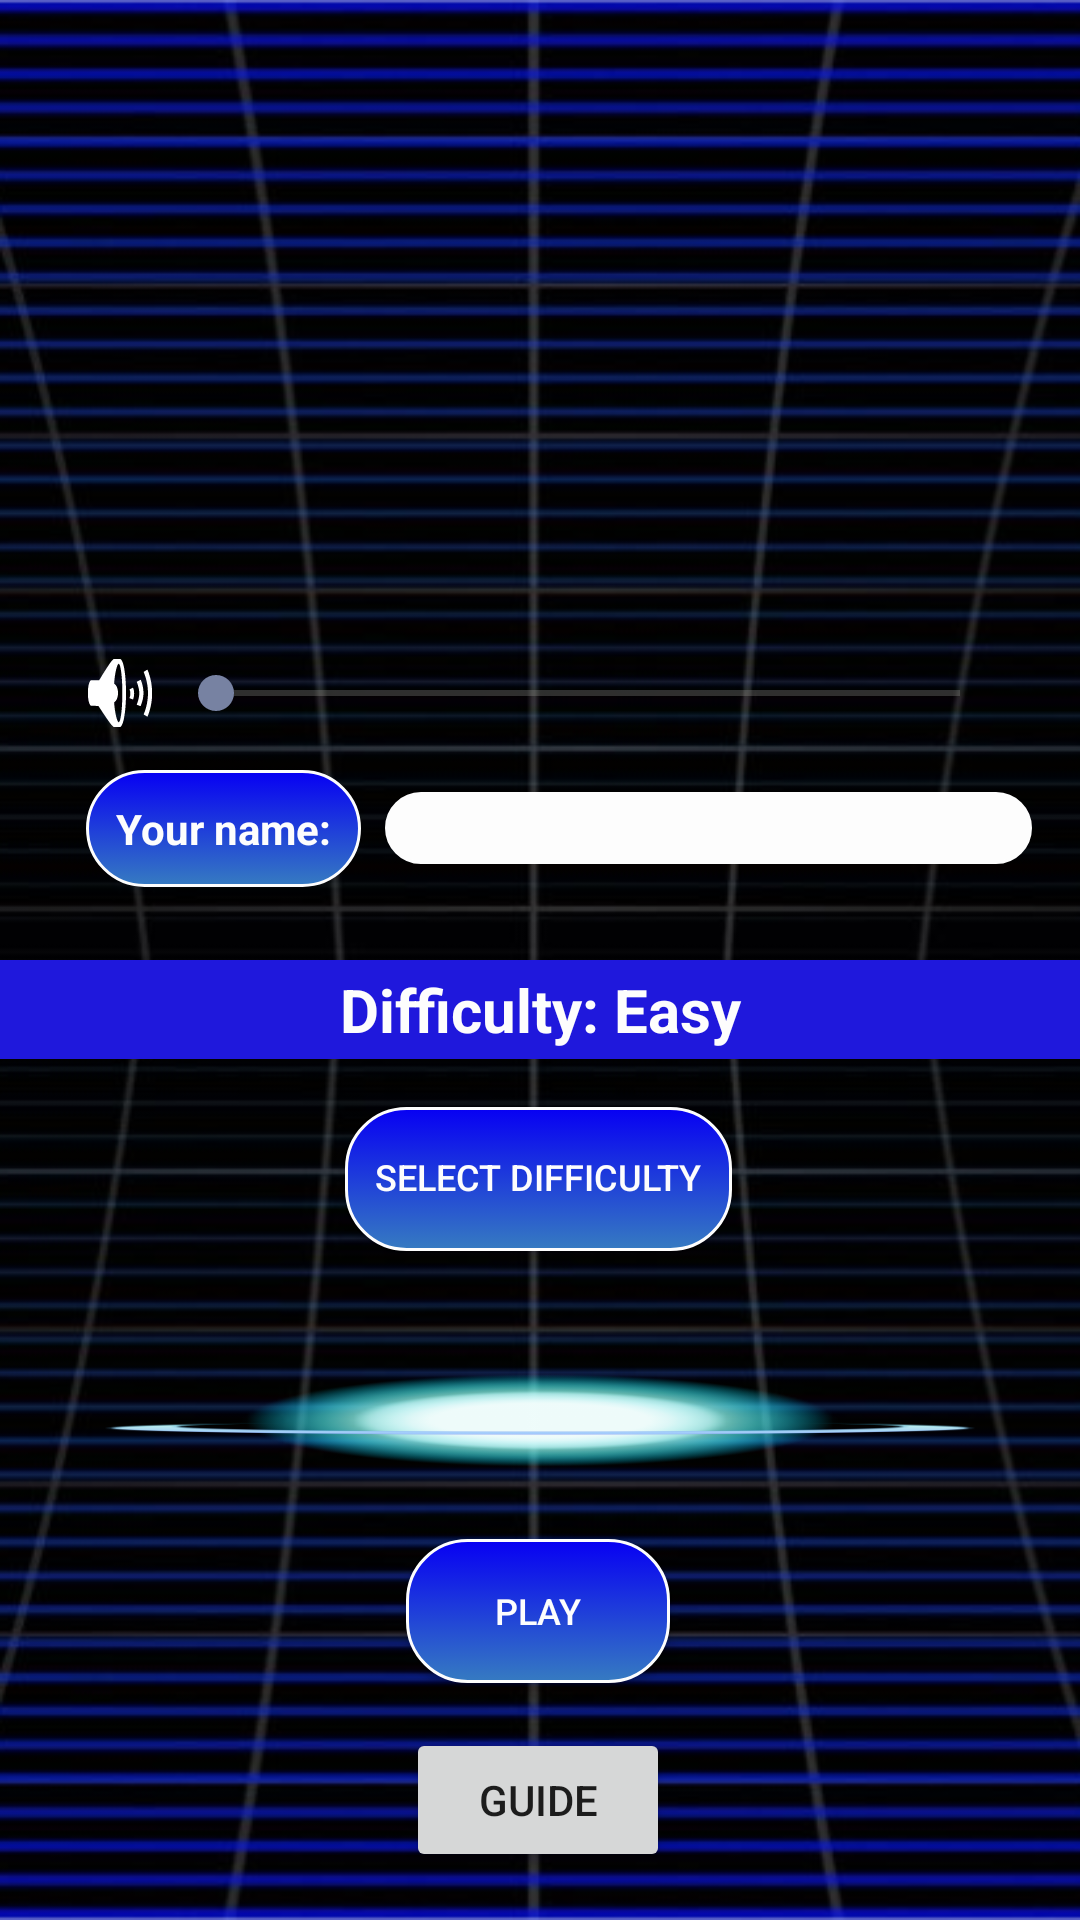

Locate icon controls on the screen. Image size 1080w x 1920h, boxes as (x1, y1, x2, y2).
lock silent mode off: (72, 645, 168, 741)
